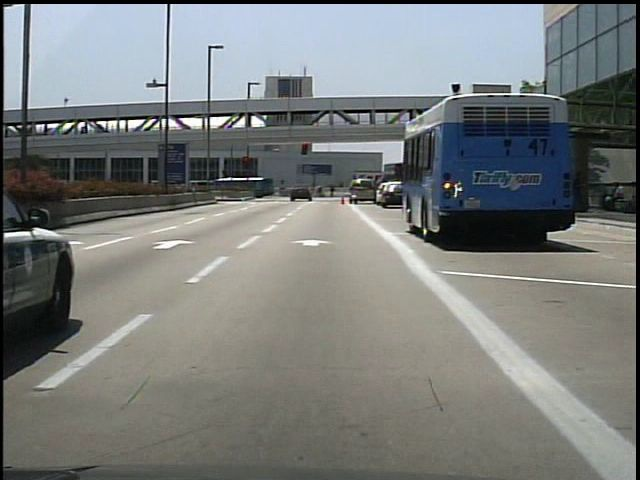person: (601, 180, 624, 211), (317, 184, 328, 199), (329, 183, 338, 199)
